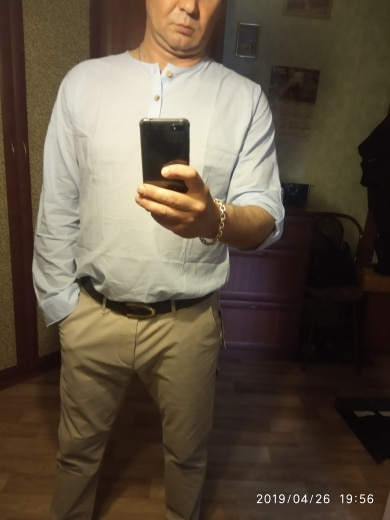shirts: (37, 50, 284, 311)
